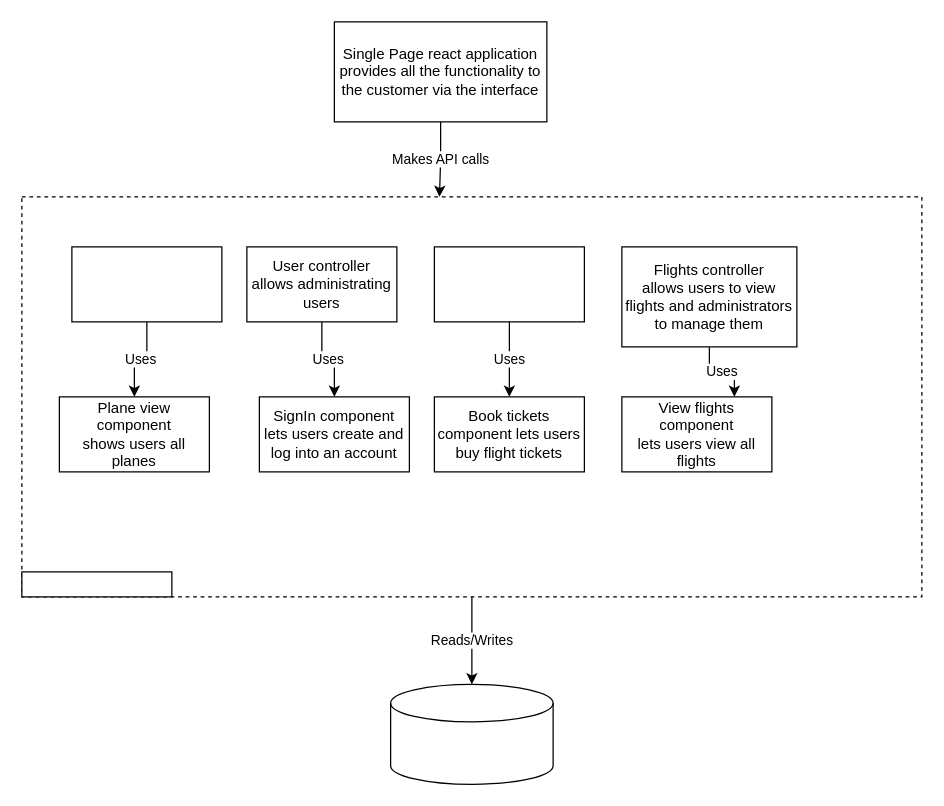
Some shapes in this 944 by 806 pixel diagram are drawn without their labels. Here are the shapes that lost their labels. From the top down, the box of each, then its label:
(71, 246, 222, 322): Airplane Controller allows administrators to manage the planes
(433, 246, 584, 322): Ticket controller allows users to book tickets
(21, 571, 172, 597): Spring API
(389, 683, 553, 784): Database
